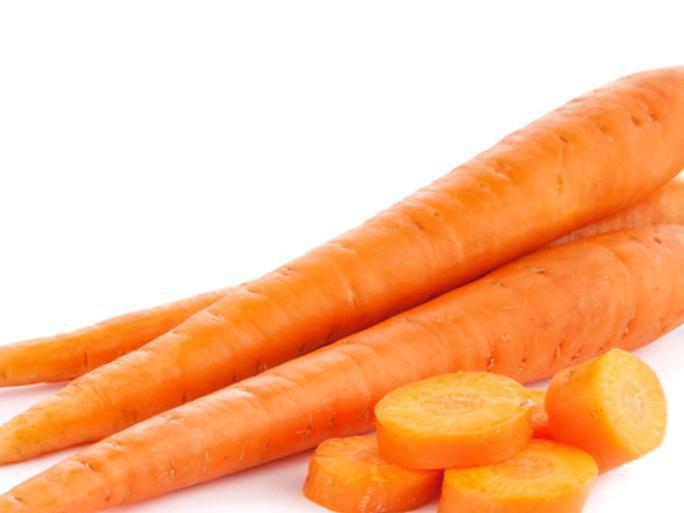carrot: (0, 66, 683, 512)
